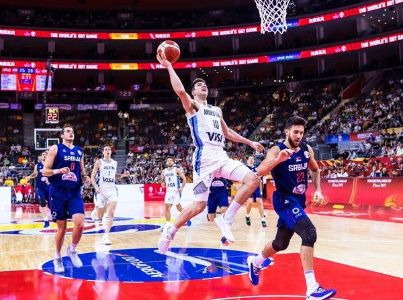baloncesto: (156, 40, 180, 63)
